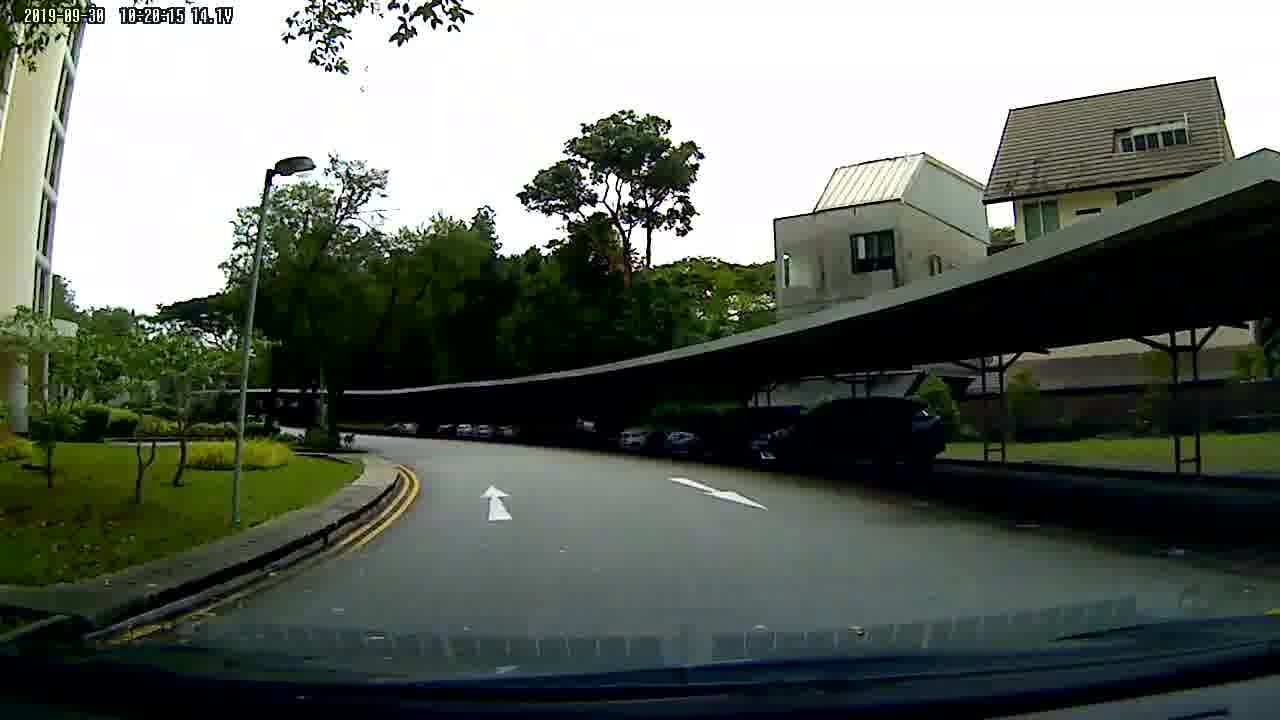car: (747, 396, 952, 477)
